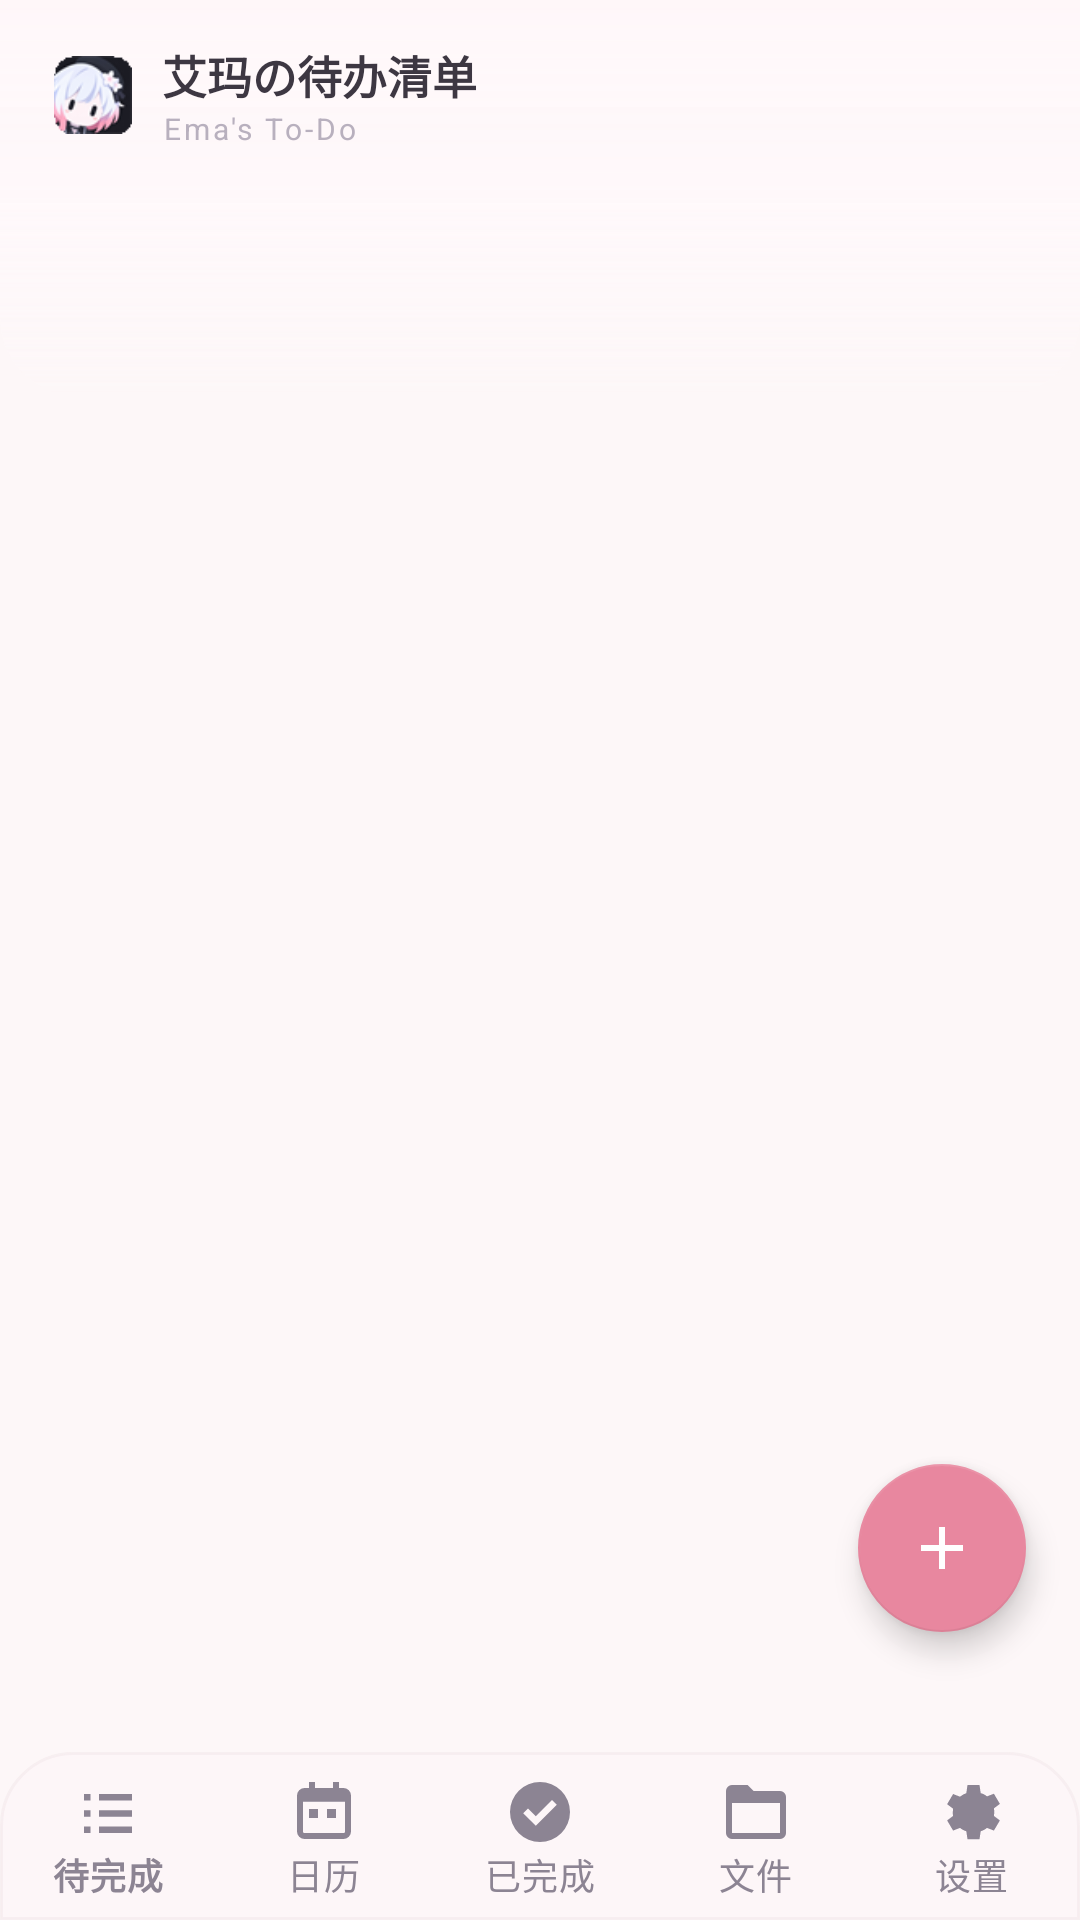

Icon bounding boxes for this 1080 x 1920 phone screenshot, format (x1=x1, y1=y1, x2=x2, y2=y2):
新建任务: (x1=858, y1=1464, x2=1026, y2=1632)
